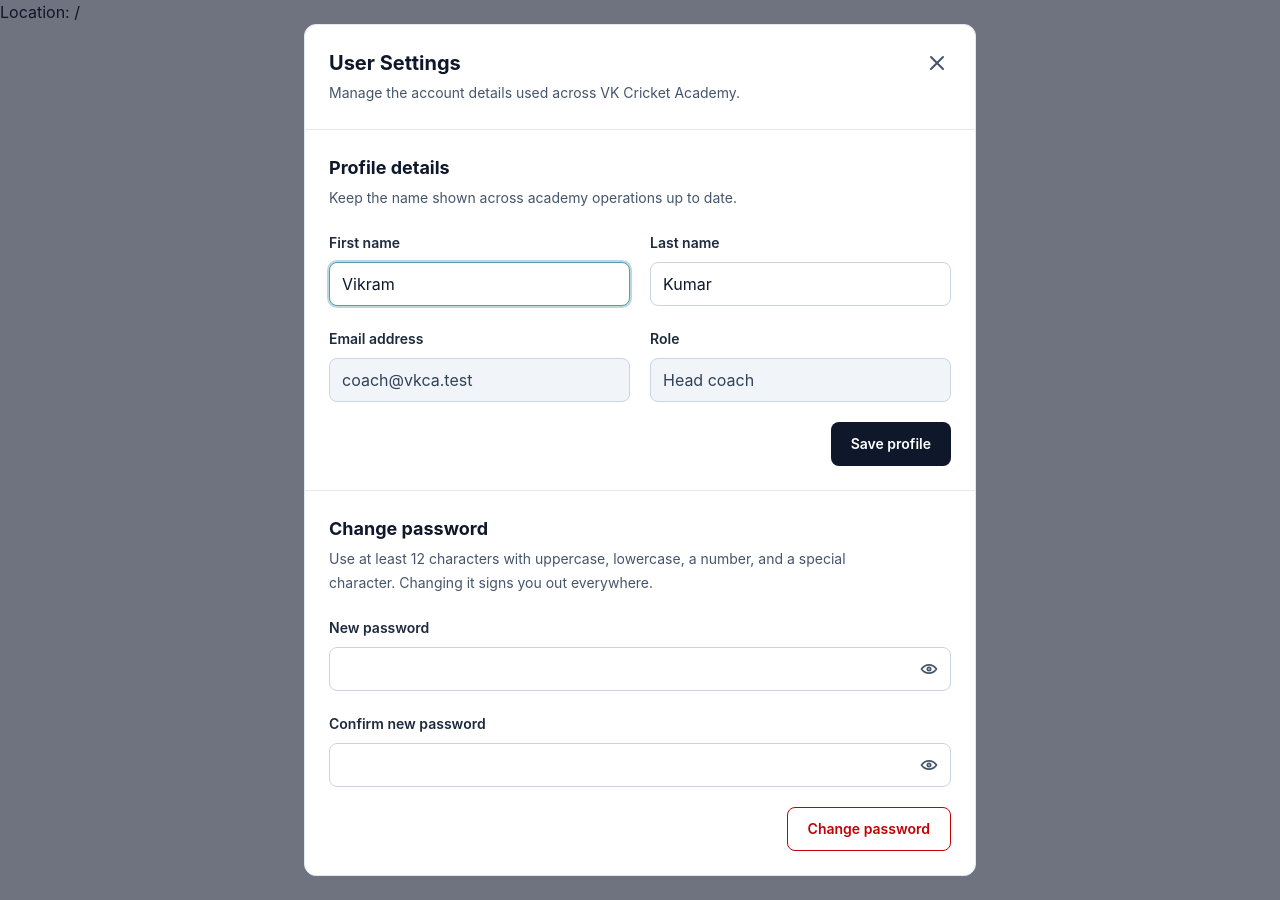
Test: AccountSettingsModal › reports every password policy violation and a confirmation mismatch
Type "short" into the password field labelled "New password" at (640, 669), box [329,647,951,691]
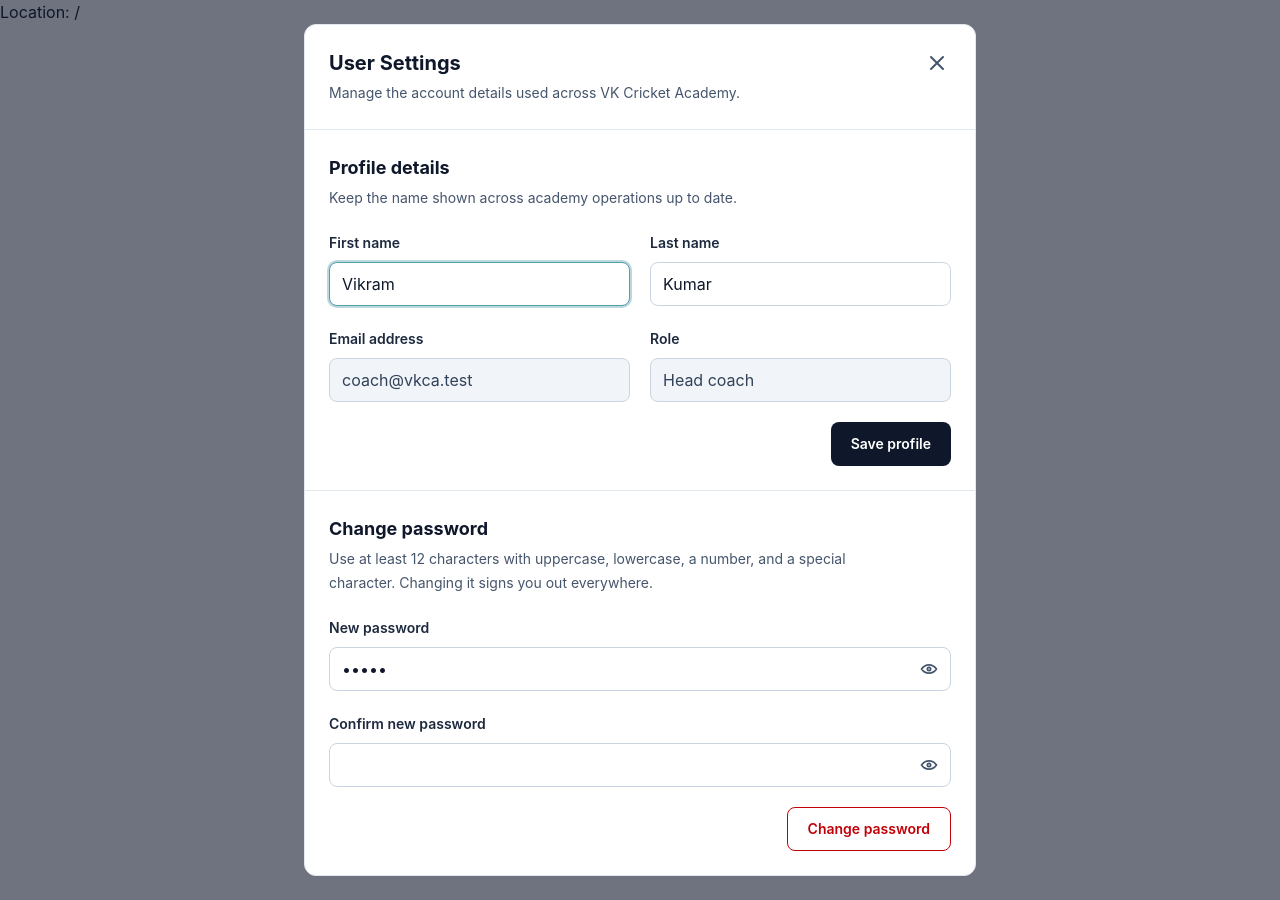
Type "different" into the password field labelled "Confirm new password" at (640, 765), box [329,743,951,787]
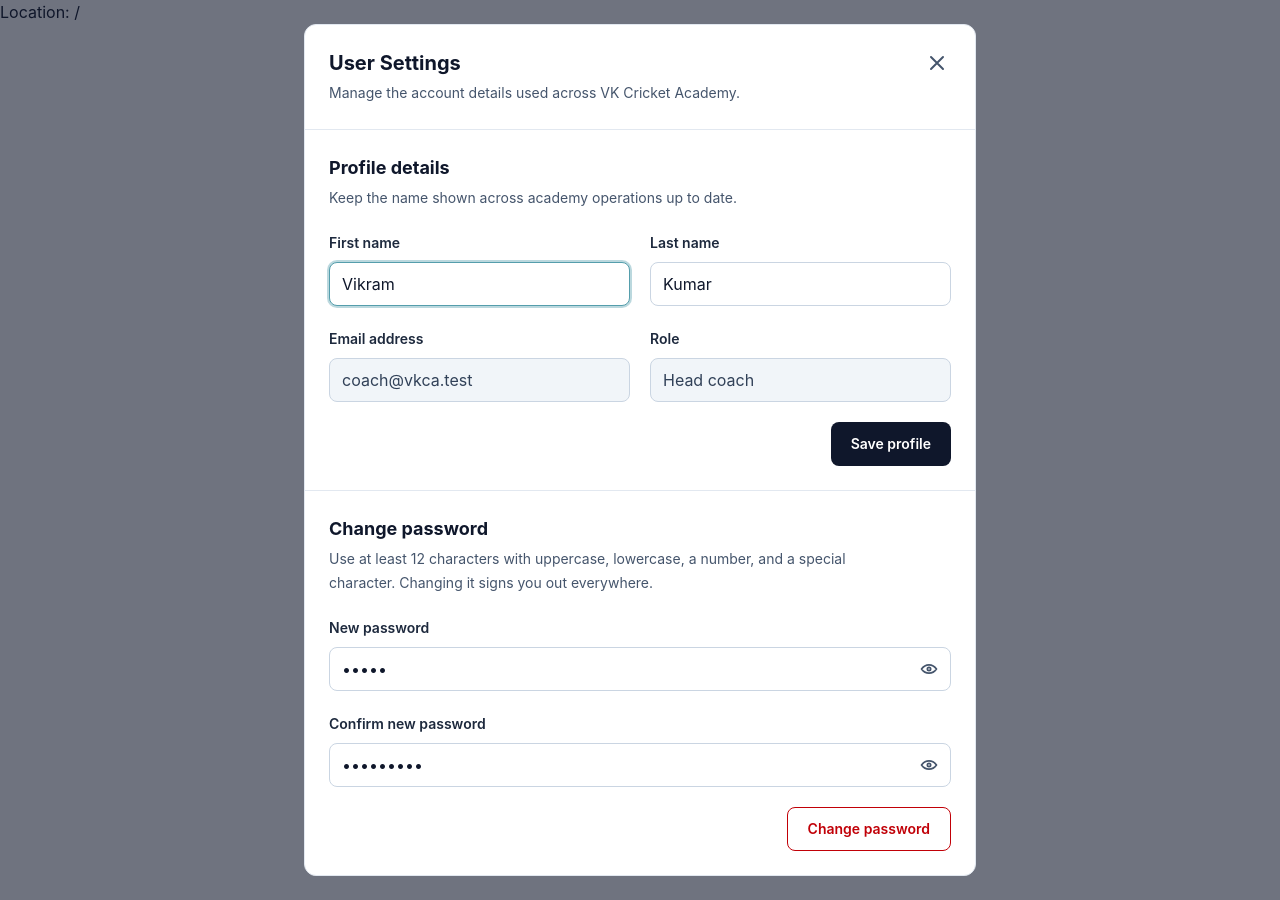
Click the button "Change password" at (869, 829), box [787,807,951,851]
(page scrolled)
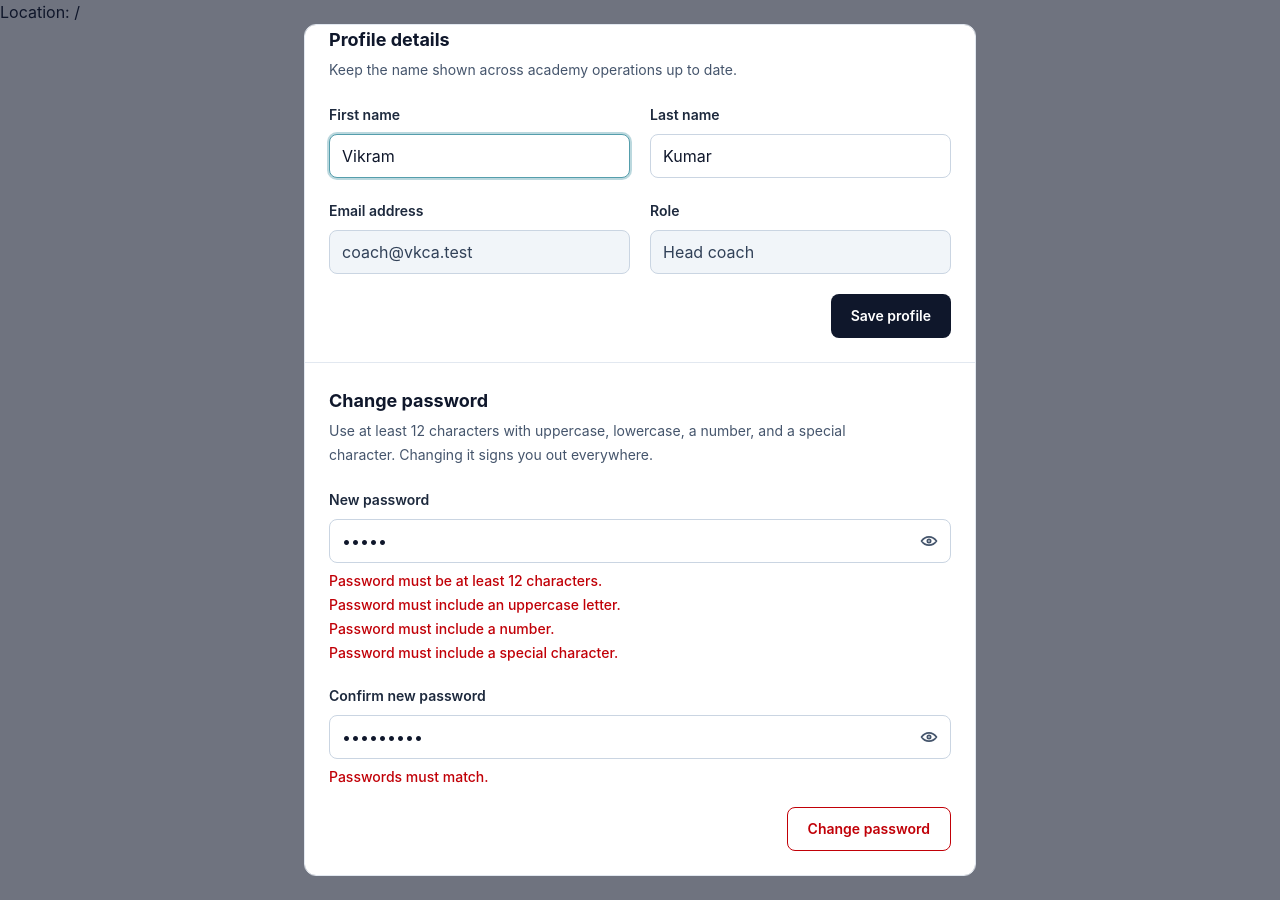
Expected: the list item "Password must be at least 12 characters." is shown, [329,572,602,589]
Expected: the list item "Password must include an uppercase letter." is shown, [329,596,621,613]
Expected: the list item "Password must include a number." is shown, [329,620,554,637]
